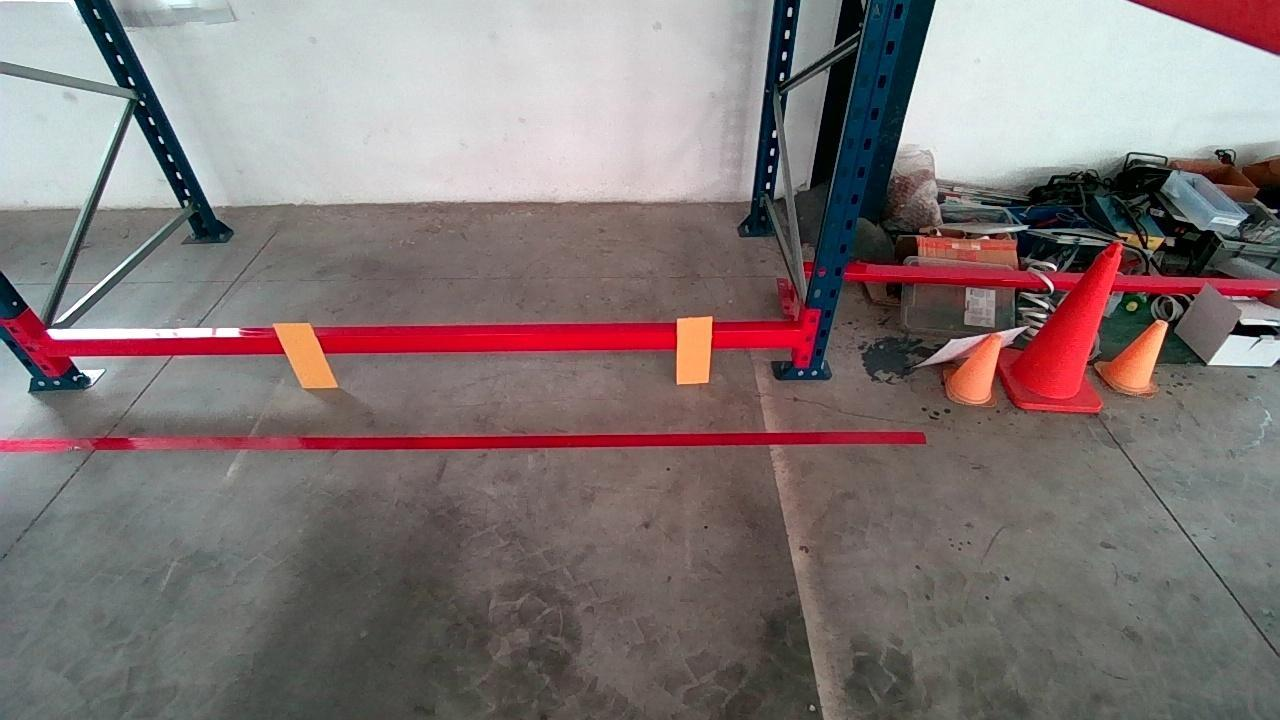h_rack: (37, 322, 803, 361)
orange_strip: (274, 322, 337, 388), (676, 316, 711, 382)
red_line: (0, 428, 925, 447)
